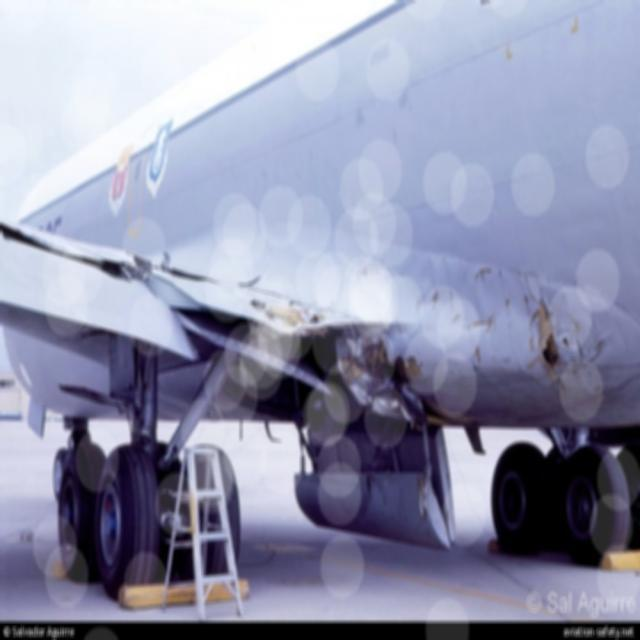crack: (533, 295, 565, 388)
dent: (469, 278, 530, 330)
